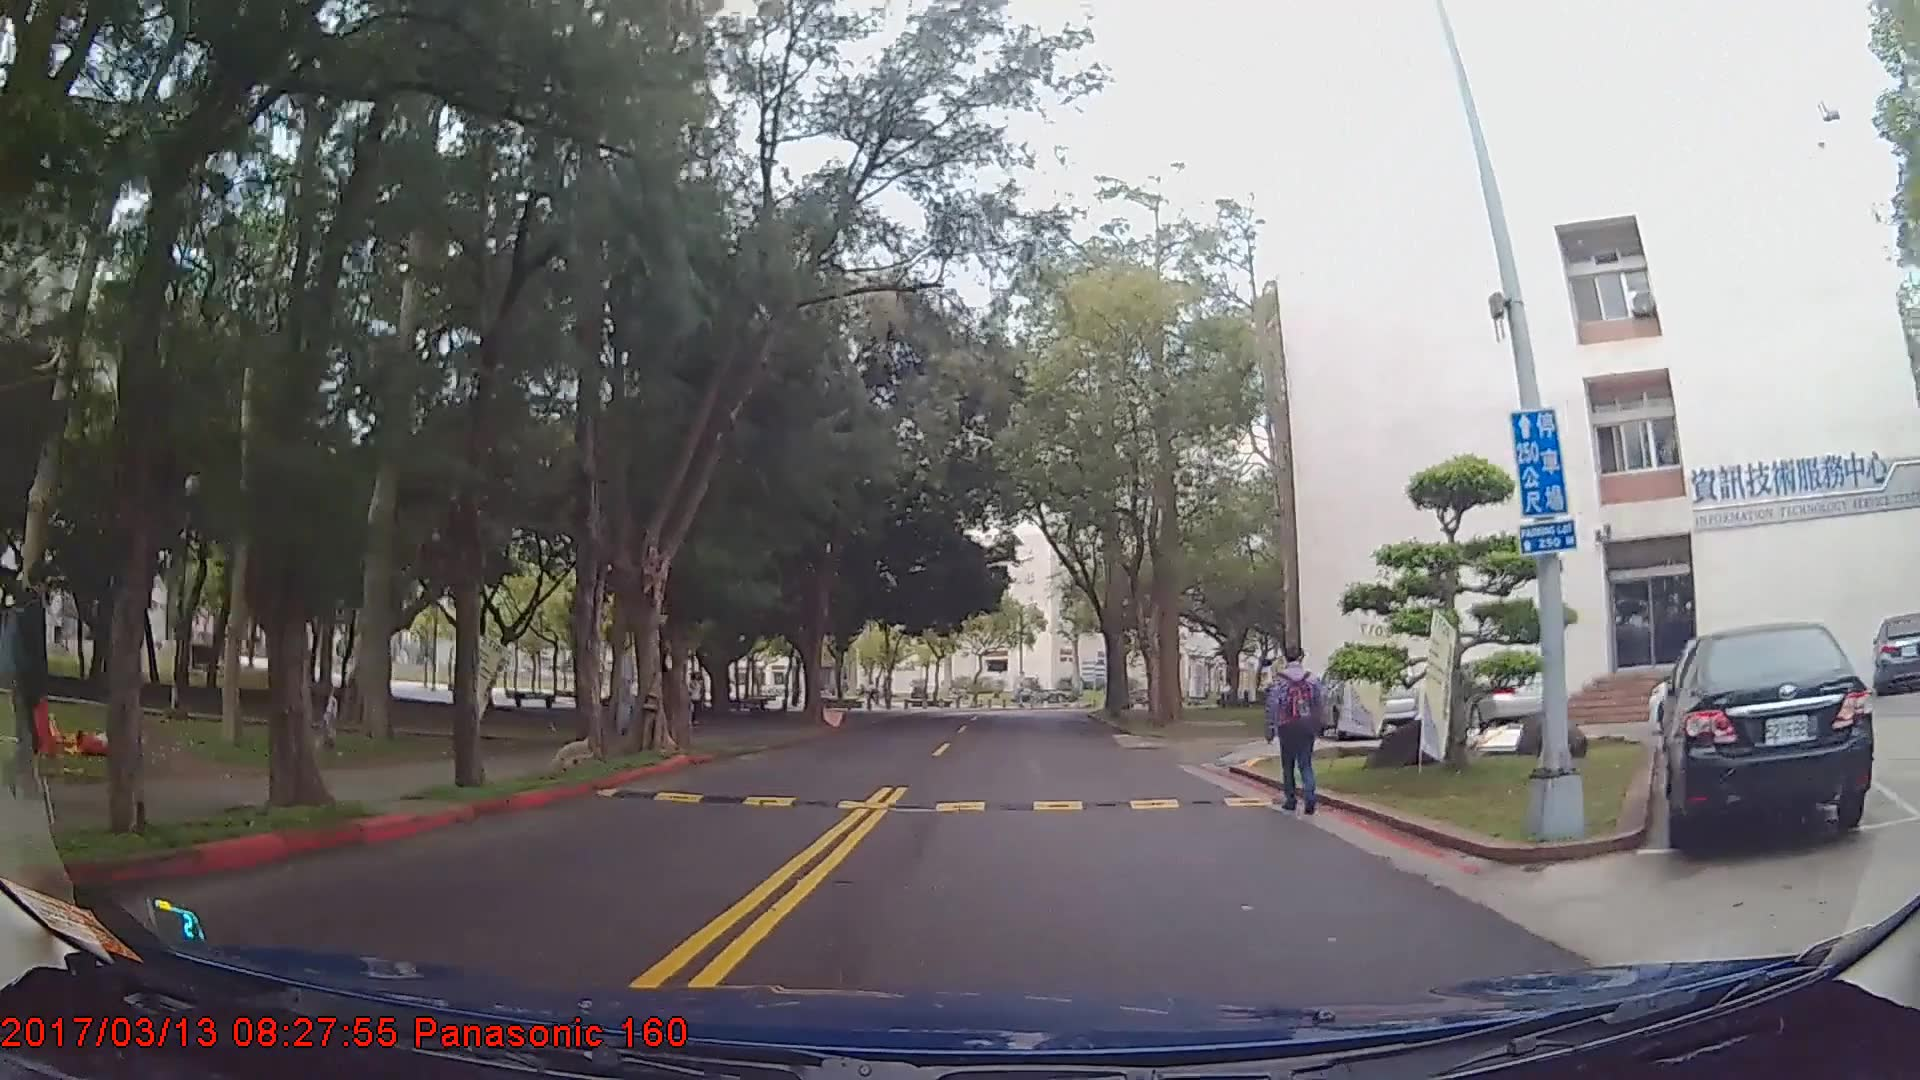pedestrian: (8, 543, 76, 809), (1266, 642, 1341, 821), (688, 670, 708, 734)
vehicle: (1657, 619, 1874, 854), (1872, 613, 1920, 694)
